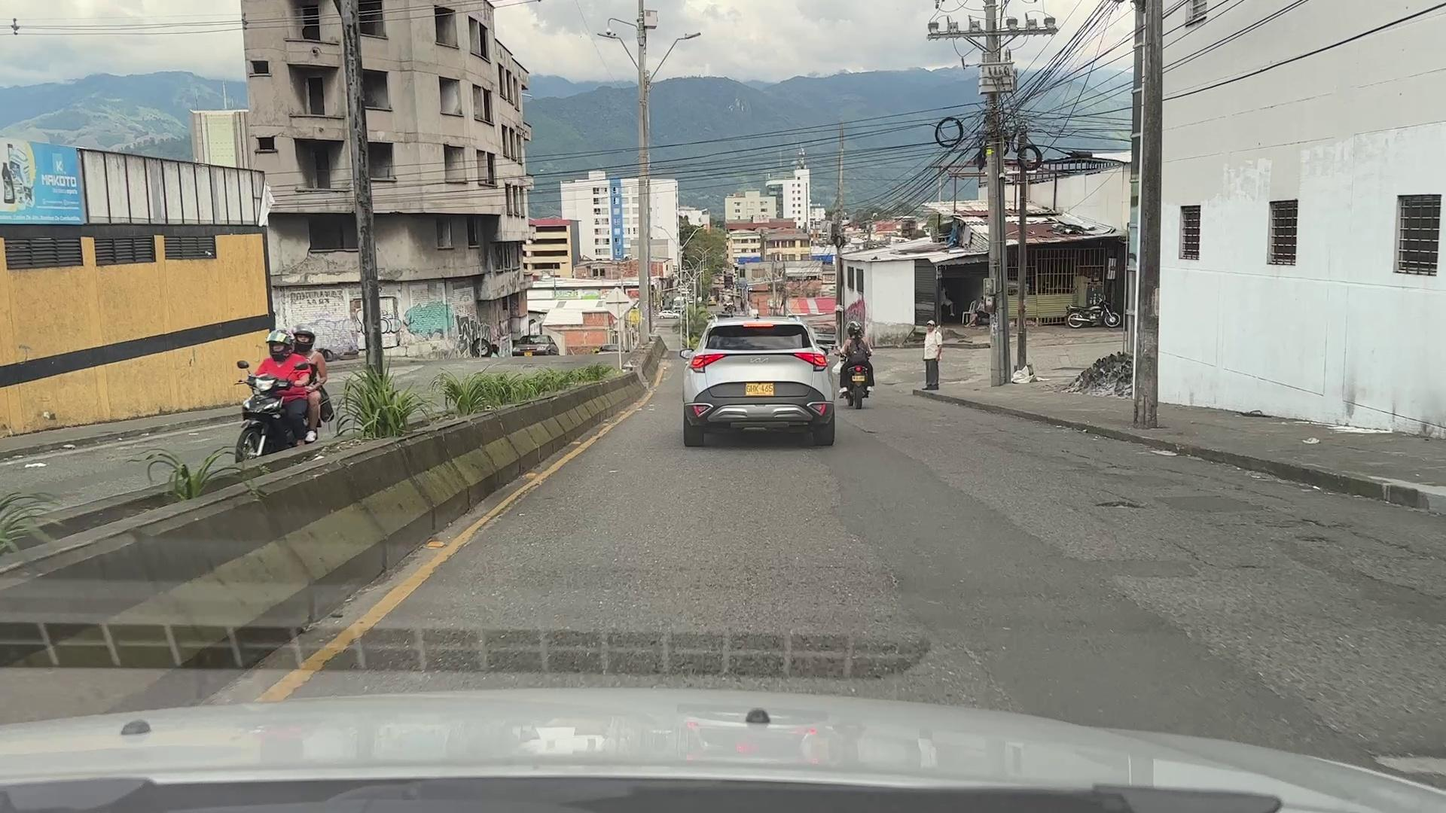bache: (1377, 757, 1445, 775), (1097, 501, 1141, 507)
